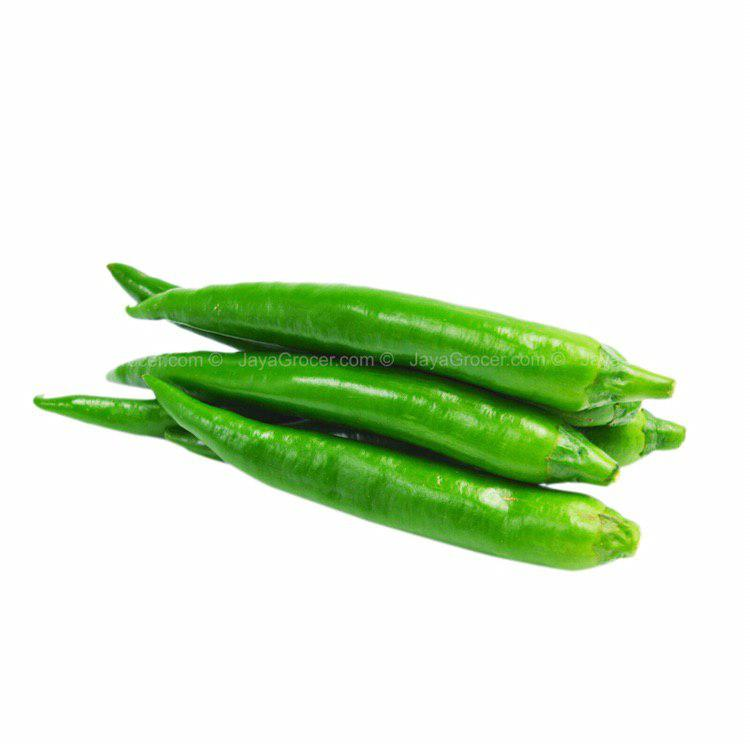lada hijau: (149, 379, 646, 607), (130, 265, 640, 414), (128, 340, 611, 481)
